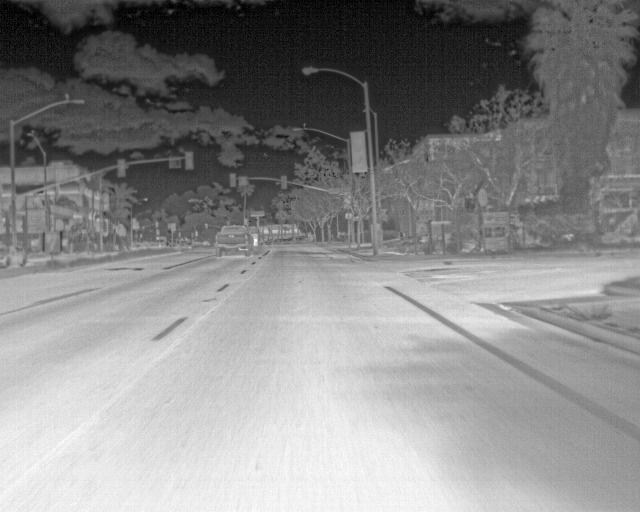car: (216, 225, 252, 257), (0, 243, 29, 268), (251, 226, 261, 249)
